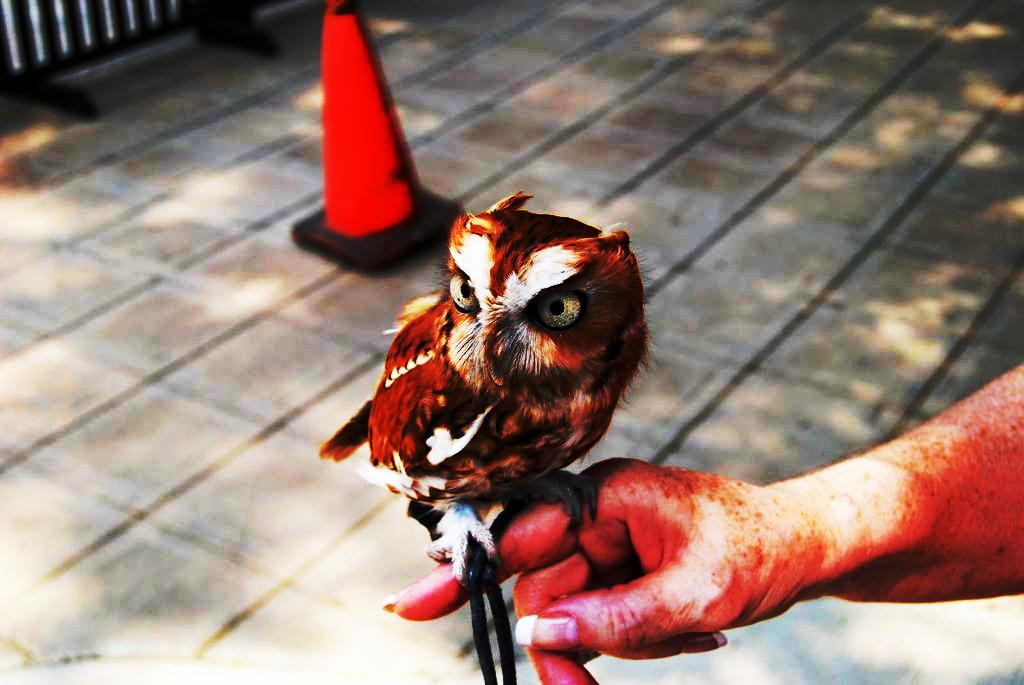Owl: (322, 199, 656, 596)
